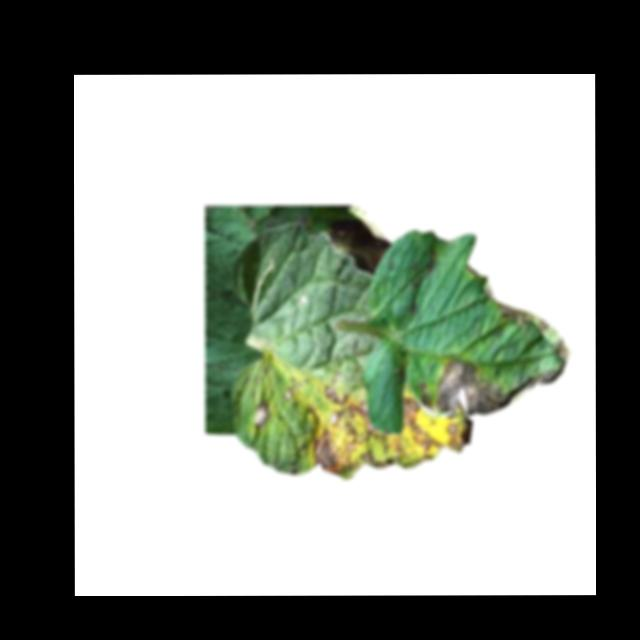Early_blight: (313, 386, 465, 481), (418, 359, 559, 417), (483, 275, 572, 360), (327, 204, 387, 274), (254, 398, 271, 424)
